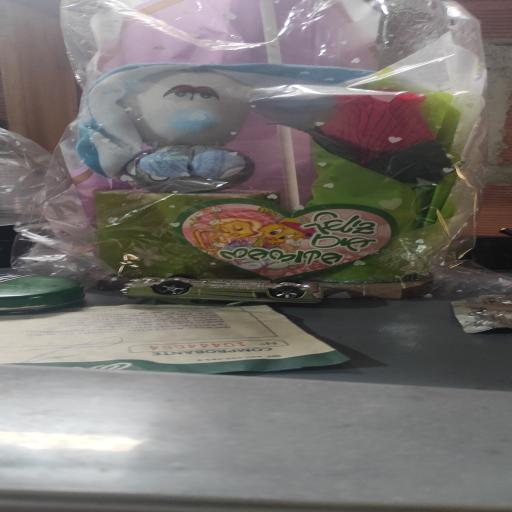Carrito: (121, 274, 325, 305)
